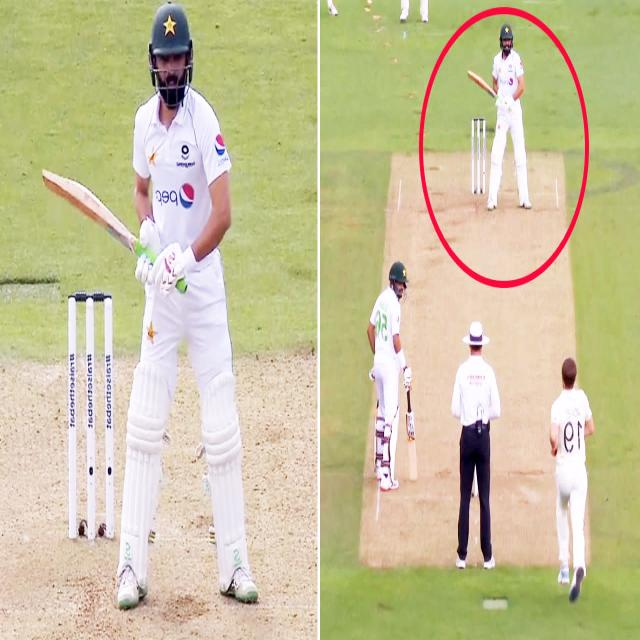stump: (67, 292, 115, 541), (470, 115, 487, 199)
